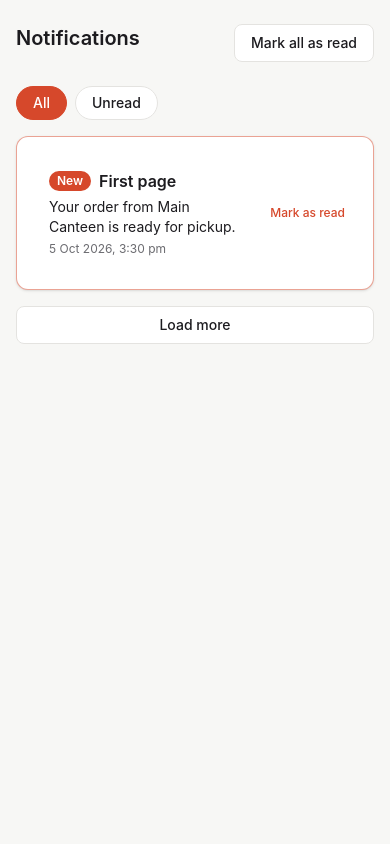
Test: NotificationsView — pagination › loads the next page with the backend's cursor and appends it
Expected: the text "First page" is shown, x1=99 y1=169 x2=176 y2=193
Click the button "Load more".
click(195, 325)  # box x1=16 y1=306 x2=374 y2=344
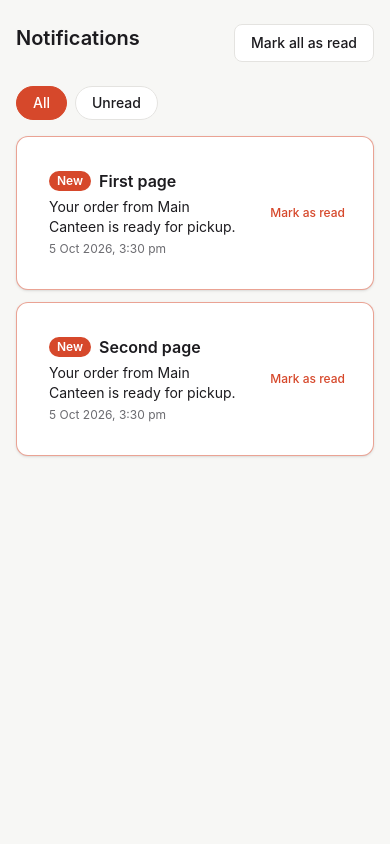
Now the text "Second page" is shown, box x1=99 y1=335 x2=201 y2=359
Now the number of list items is 2, box x1=16 y1=136 x2=374 y2=290; x1=16 y1=302 x2=374 y2=456
Now the button "Load more" is gone
